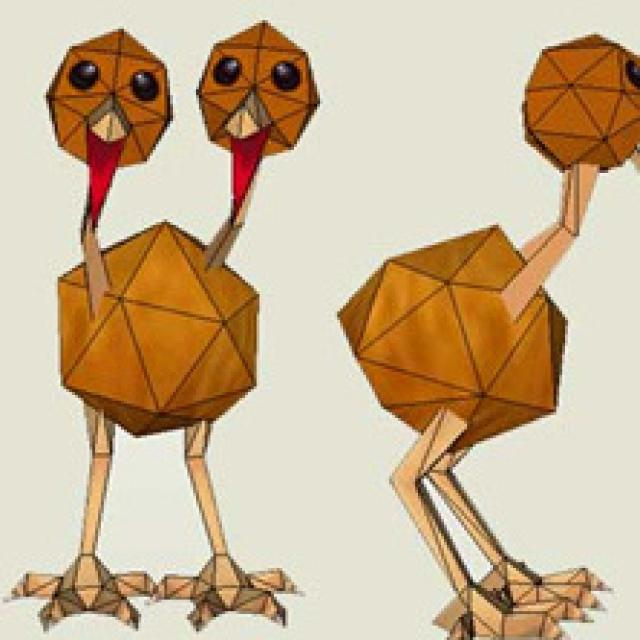Doduo: (356, 27, 640, 640), (41, 27, 321, 623)
